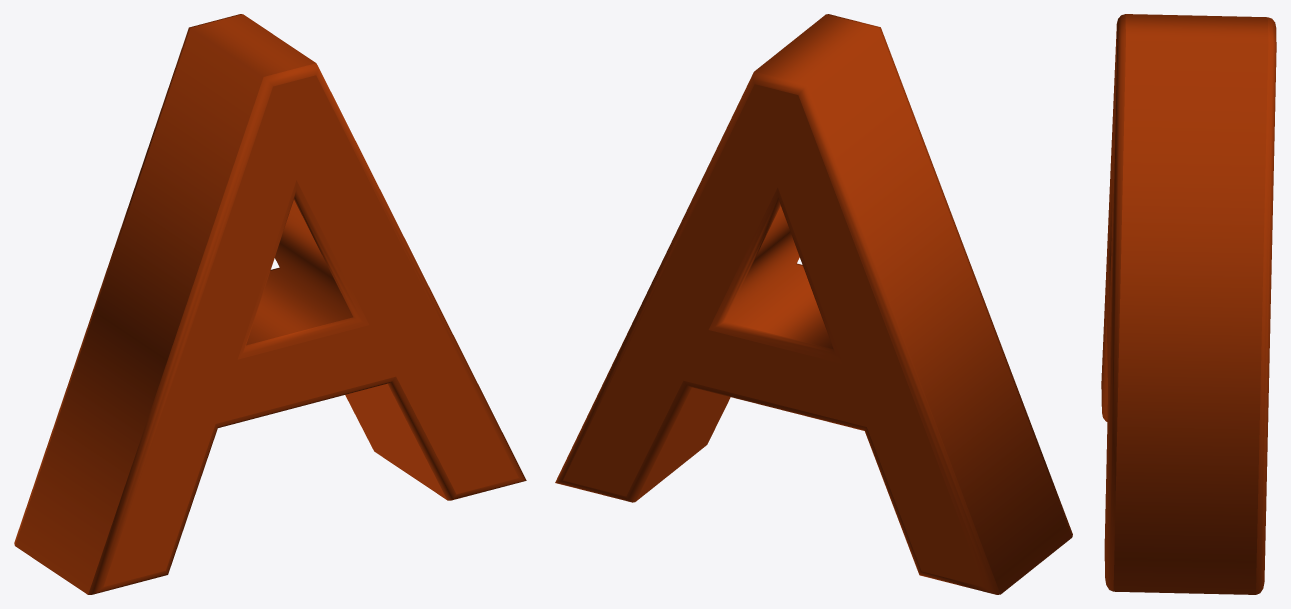
Rendered from letters_1.obj.
3 renders of one model, left to right at view 1: azimuth 30°, elevation 25°; view 2: azimuth 150°, elevation 25°; view 3: azimuth 270°, elevation 25°, orthographic. The views are drawn at different scales.
Visible parts, largest first — view 1: Text; view 2: Text; view 3: Text.
Part boxes in pixels (box(x1,y1,x2,y2)): Text: box(14, 14, 526, 594); Text: box(555, 14, 1072, 594); Text: box(1101, 14, 1276, 594).
Size of the model in its own units: 0.7051 by 0.7205 by 0.2461.
